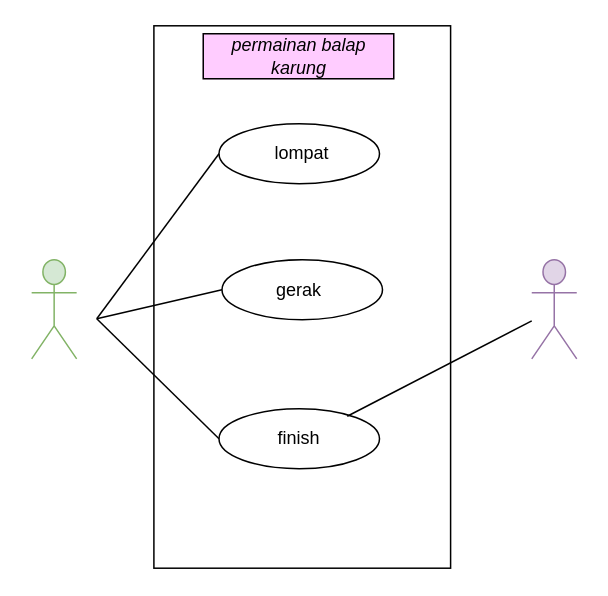
The diagram is 608 pixels wide and 596 high, and some of its shapes have lost their labels. The box of each missing label's shape, as (x1, y1, x2, y2) in pixels:
panitia: (530, 258, 577, 359)
pemain: (30, 258, 77, 359)
